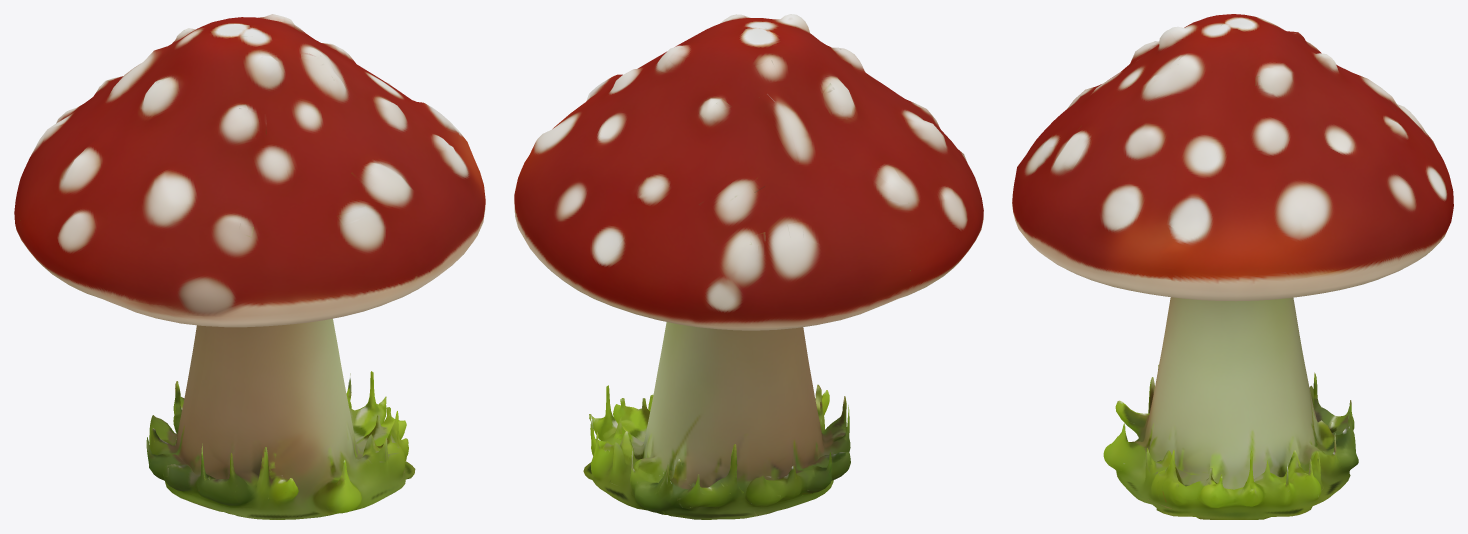
File: mushroom.fbx
3 renders of one model, left to right at view 1: azimuth 30°, elevation 25°; view 2: azimuth 150°, elevation 25°; view 3: azimuth 270°, elevation 25°, orthographic. The views are drawn at different scales.
Visible parts, largest first — view 1: model; view 2: model; view 3: model.
Boxes of the visible parts, left/top/right/bottom form: model: left=14, top=14, right=485, bottom=519; model: left=514, top=14, right=983, bottom=519; model: left=1012, top=14, right=1453, bottom=519.
Size of the model in its own units: 153 by 164 by 153.
